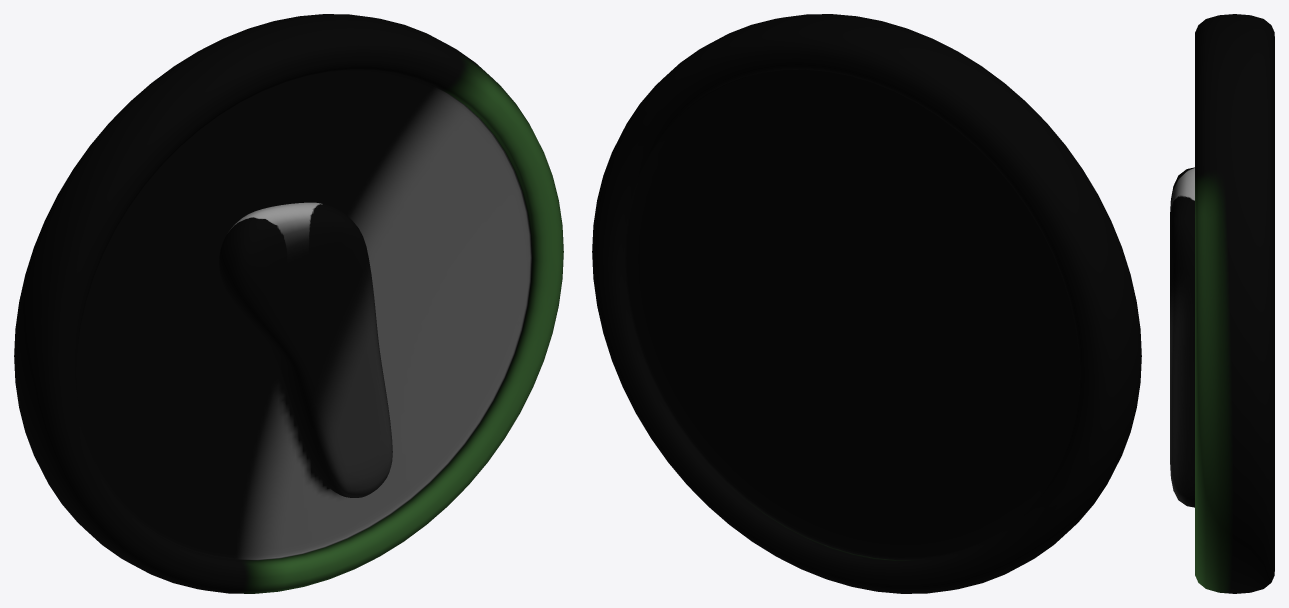
The model's file is toeTextureBAKE.gltf.
3 renders of one model, left to right at view 1: azimuth 30°, elevation 25°; view 2: azimuth 150°, elevation 25°; view 3: azimuth 270°, elevation 25°, orthographic. The views are drawn at different scales.
Parts seen in each view (by area): view 1: Cylinder, Cube; view 2: Cylinder; view 3: Cylinder, Cube.
Boxes of the visible parts, x1,y1,x2,y2 form: Cylinder: [14, 14, 563, 593]; Cube: [219, 202, 392, 497]; Cylinder: [592, 14, 1141, 593]; Cylinder: [1195, 14, 1274, 593]; Cube: [1170, 167, 1194, 507].
Bounding box in the file's own units: 2.61 × 2.61 × 0.4716.
2 materials, 2 textured.
